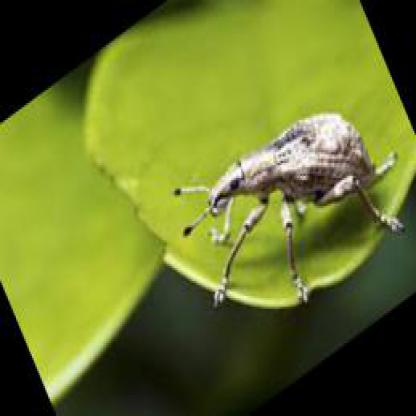ash weevil: (208, 112, 406, 305)
